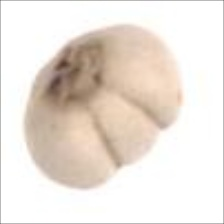L5: (87, 84, 167, 171), (31, 32, 107, 111)
L6: (20, 23, 185, 190)
